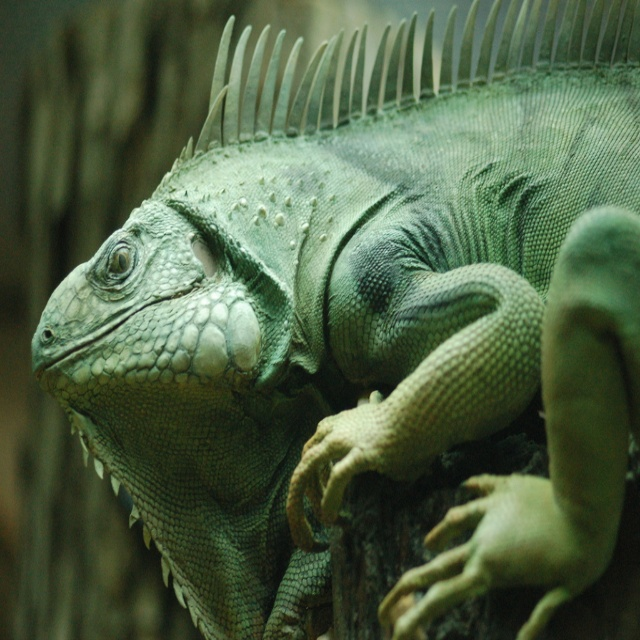Lizard: (33, 2, 640, 639), (401, 204, 640, 620)
